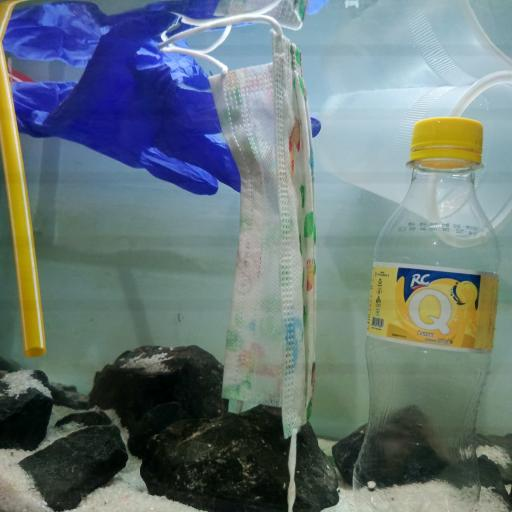bottle_cap: (408, 117, 487, 157)
glove: (6, 9, 320, 194)
mask: (210, 23, 320, 446)
plastic_bottle: (354, 118, 499, 512)
plastic_cup: (323, 74, 512, 244)
plastic_straw: (0, 46, 47, 360)
